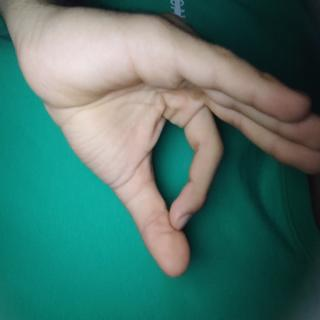Space: (2, 0, 212, 320)
